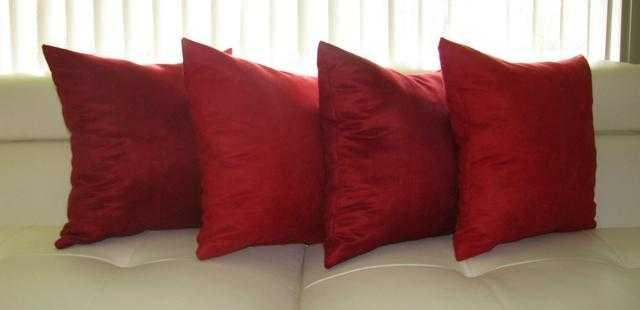pillow: (36, 35, 240, 266), (438, 36, 598, 262), (316, 39, 458, 269), (180, 35, 324, 260)
